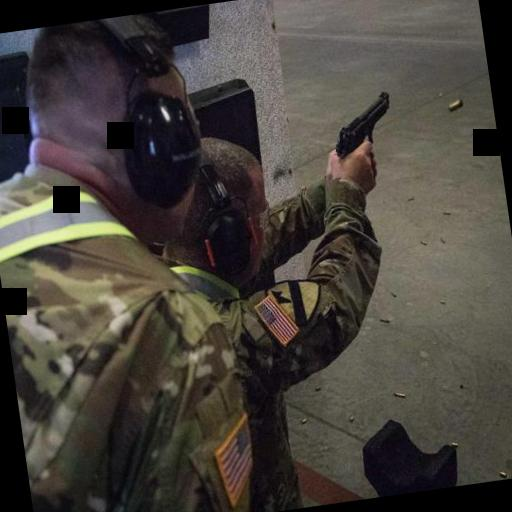Handgun: (324, 88, 400, 164)
